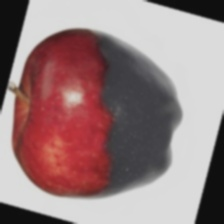apple: (47, 29, 221, 201)
